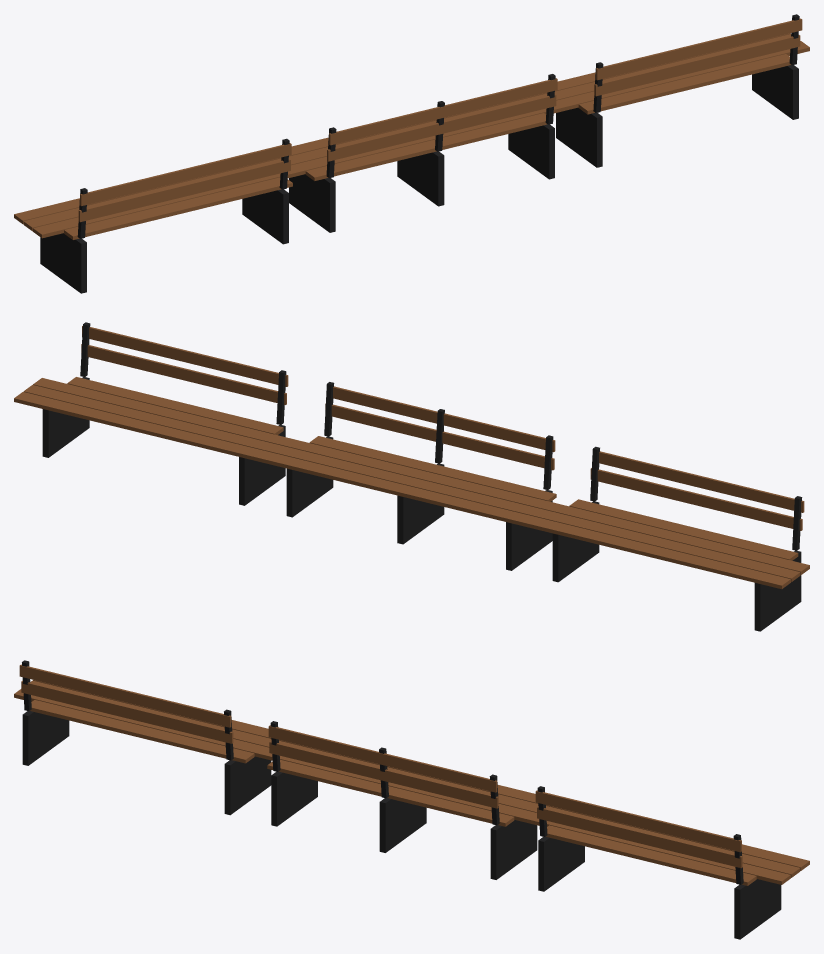
3 renders of one model, top to bottom at view 1: azimuth 30°, elevation 25°; view 2: azimuth 150°, elevation 25°; view 3: azimuth 330°, elevation 25°, orthographic.
Visible parts, largest first — view 1: parametric-variant-bench-3rd-ca256b587c9549a7fa02; view 2: parametric-variant-bench-3rd-ca256b587c9549a7fa02; view 3: parametric-variant-bench-3rd-ca256b587c9549a7fa02.
Boxes of the visible parts, x1,y1,x2,y2 form: parametric-variant-bench-3rd-ca256b587c9549a7fa02: (14, 14, 809, 293); parametric-variant-bench-3rd-ca256b587c9549a7fa02: (14, 322, 809, 631); parametric-variant-bench-3rd-ca256b587c9549a7fa02: (14, 660, 809, 939).
Bounding box in the file's own units: 6.6 × 0.85 × 0.6674.
